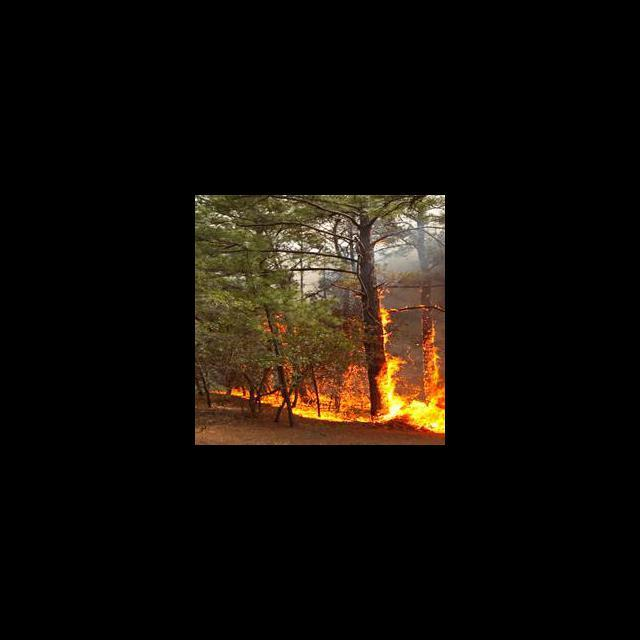Fire: (232, 284, 443, 438)
